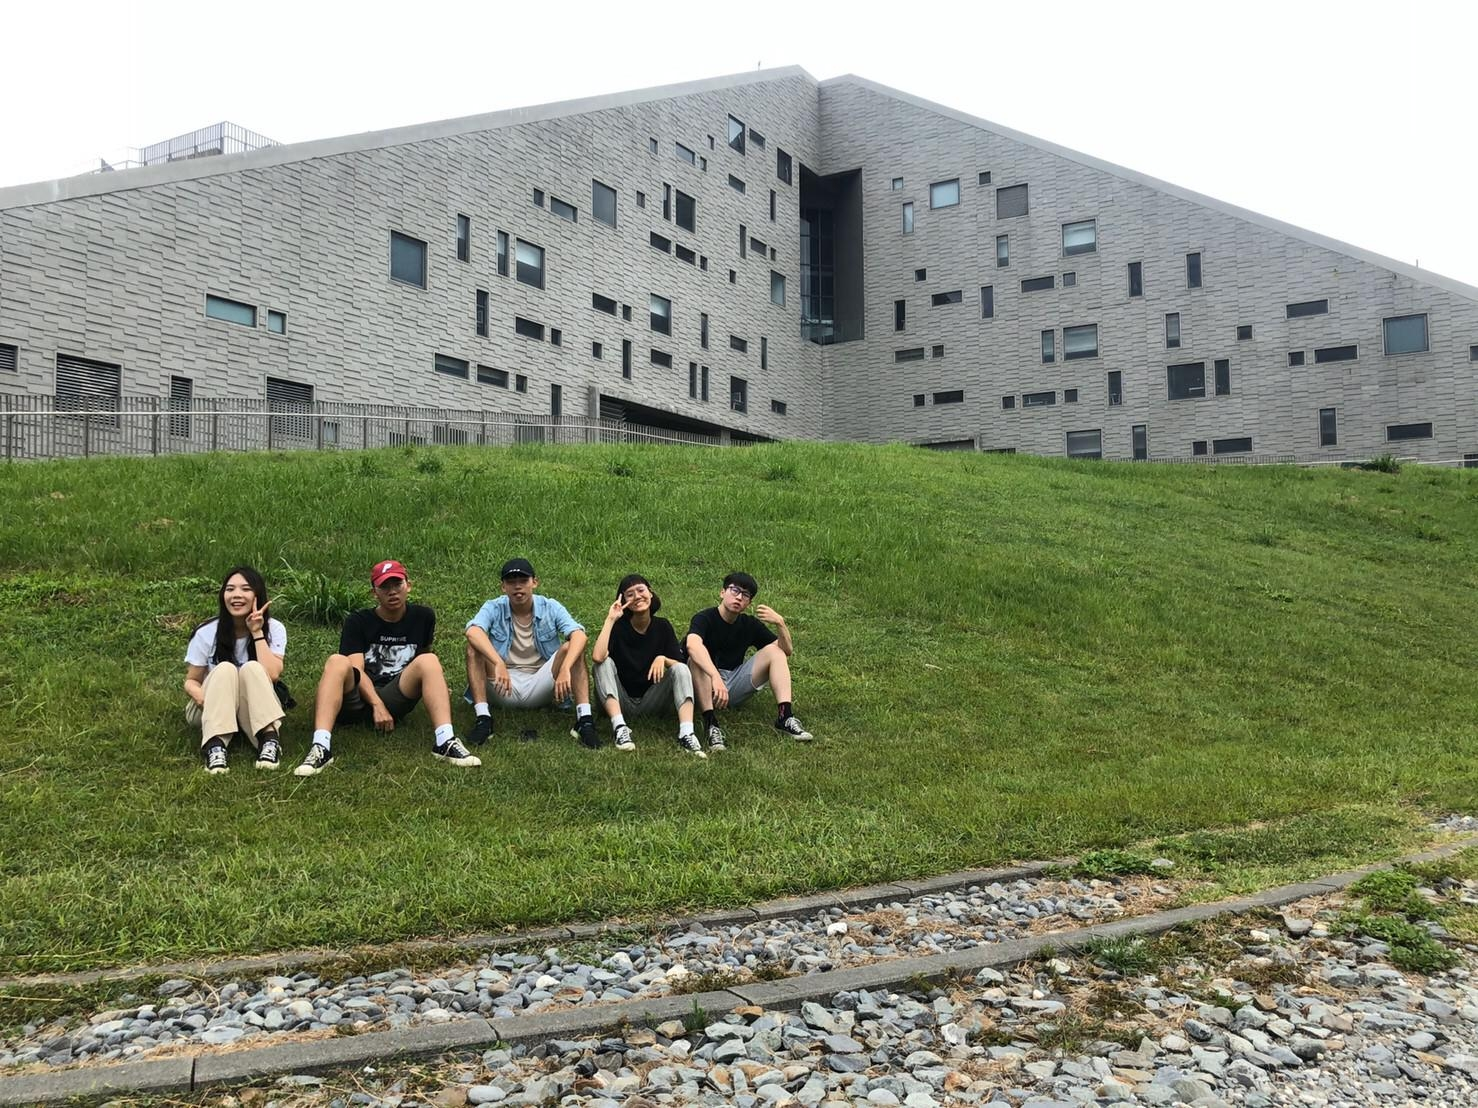people: (313, 571, 442, 740), (477, 561, 577, 736), (694, 575, 802, 727), (196, 567, 273, 763), (596, 573, 690, 732)
